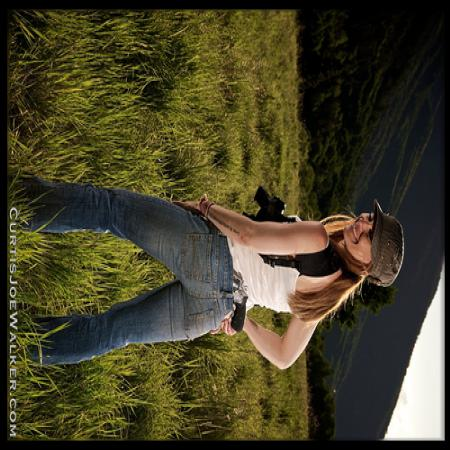Pistol: (227, 258, 249, 332), (252, 182, 289, 224)
